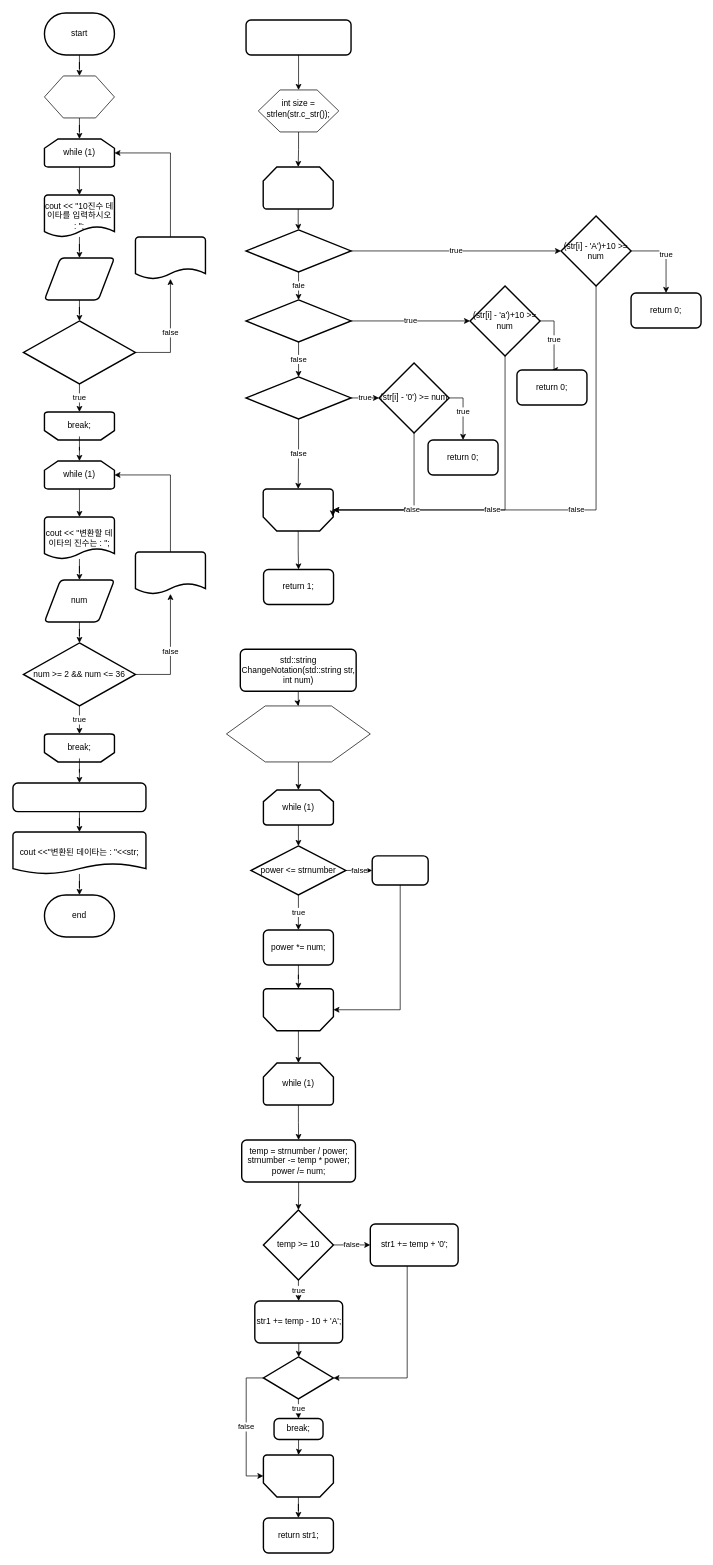
Image size: 713x1565. Some labels were removed from this diagram. Each missing label, with the box of its shape:
CheckNotation(str, 10): (22, 320, 136, 384)
cout << "2~36사이 수를 입력하세요." << endl;: (134, 551, 206, 594)
cout <<"10진수에 맞춰서 데이터를 입력하세요." << endl;: (134, 236, 206, 279)
i< size: (262, 488, 334, 531)
int CheckNotation(std::string str, int num): (245, 19, 351, 55)
int i=0,i++: (262, 166, 334, 209)
int strnumber = stoi(str); int temp = 0; int power = 1; string str1;: (226, 705, 370, 762)
power /= num; break;: (371, 855, 429, 885)
power == 0: (262, 1356, 334, 1399)
str: (43, 257, 115, 300)
str = ChangeNotation(str,num);: (12, 782, 146, 812)
str[i] >= '0' && str[i] <= '9': (245, 376, 351, 419)
str[i] >= 'a' && str[i] <= 'z': (245, 299, 351, 342)
str[i] >= 'A'&&str[i]<='Z': (245, 229, 351, 272)
string str; int num = 0;: (44, 75, 114, 118)
